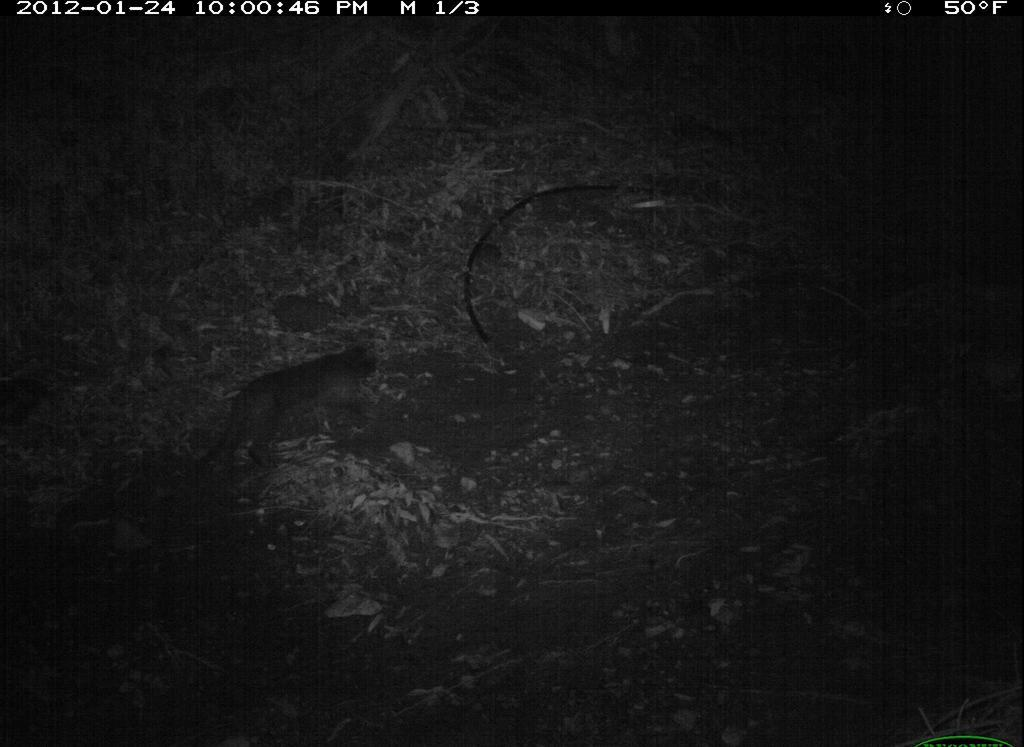opossum: (196, 335, 396, 481)
